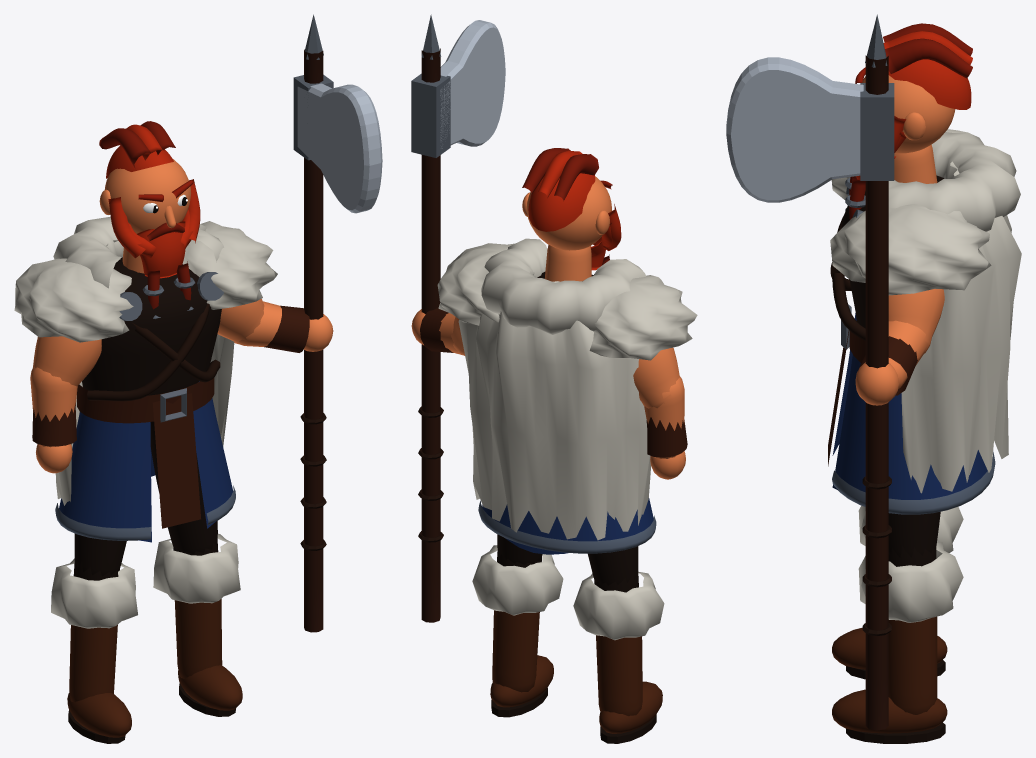
File: barbarian.glb
3 renders of one model, left to right at view 1: azimuth 30°, elevation 25°; view 2: azimuth 150°, elevation 25°; view 3: azimuth 270°, elevation 25°, orthographic. The views are drawn at different scales.
Parts seen in each view (by area): view 1: hips_kilt, armR_lower_haft, tunic, armR_lower_axe, armL_upper_fur, hips_flap, armR_upper_fur, shin_1_fur, shin_-1_fur, head, shin_-1_boot, mantle_collar (+23 smaller); view 2: cloak, mantle_collar, armR_lower_haft, armR_lower_axe, armL_upper_fur, shin_-1_fur, shin_1_fur, shin_-1_boot, shin_1_boot, armR_upper_fur, armR_lower_axe_socket, hips_kilt_trim (+18 smaller); view 3: cloak, armR_lower_axe, armR_lower_haft, armR_upper_fur, mantle_collar, hips_kilt, shin_1_boot, shin_1_fur, armR_lower_axe_socket, shin_1_foot, head, head_hair_top (+18 smaller).
Part boxes in pixels (bbox=[...]): hips_kilt: bbox=[59, 381, 232, 542]; armR_lower_haft: bbox=[304, 49, 323, 632]; tunic: bbox=[82, 257, 221, 395]; armR_lower_axe: bbox=[297, 83, 382, 213]; armL_upper_fur: bbox=[14, 258, 133, 342]; hips_flap: bbox=[152, 393, 200, 528]; armR_upper_fur: bbox=[182, 221, 277, 309]; shin_1_fur: bbox=[153, 533, 240, 603]; shin_-1_fur: bbox=[51, 558, 137, 628]; head: bbox=[104, 159, 191, 233]; shin_-1_boot: bbox=[69, 625, 117, 702]; mantle_collar: bbox=[53, 216, 223, 288]; cloak: bbox=[458, 271, 650, 540]; mantle_collar: bbox=[481, 238, 646, 334]; armR_lower_haft: bbox=[421, 48, 440, 622]; armR_lower_axe: bbox=[440, 20, 505, 148]; armL_upper_fur: bbox=[589, 275, 697, 360]; shin_-1_fur: bbox=[573, 572, 664, 640]; shin_1_fur: bbox=[472, 545, 563, 615]; shin_-1_boot: bbox=[596, 635, 642, 716]; shin_1_boot: bbox=[492, 610, 539, 692]; armR_upper_fur: bbox=[437, 243, 514, 325]; armR_lower_axe_socket: bbox=[411, 73, 450, 157]; hips_kilt_trim: bbox=[478, 500, 656, 553]; cloak: bbox=[901, 155, 1021, 493]; armR_lower_axe: bbox=[726, 57, 863, 202]; armR_lower_haft: bbox=[865, 55, 888, 730]; armR_upper_fur: bbox=[830, 204, 991, 295]; mantle_collar: bbox=[888, 132, 1020, 231]; hips_kilt: bbox=[832, 313, 990, 499]; shin_1_boot: bbox=[888, 616, 937, 714]; shin_1_fur: bbox=[858, 542, 963, 622]; armR_lower_axe_socket: bbox=[860, 83, 894, 180]; shin_1_foot: bbox=[832, 689, 947, 733]; head: bbox=[862, 75, 955, 153]; head_hair_top: bbox=[888, 59, 971, 109].
Bounding box in the file's own units: 2.54 × 5.54 × 1.92.
